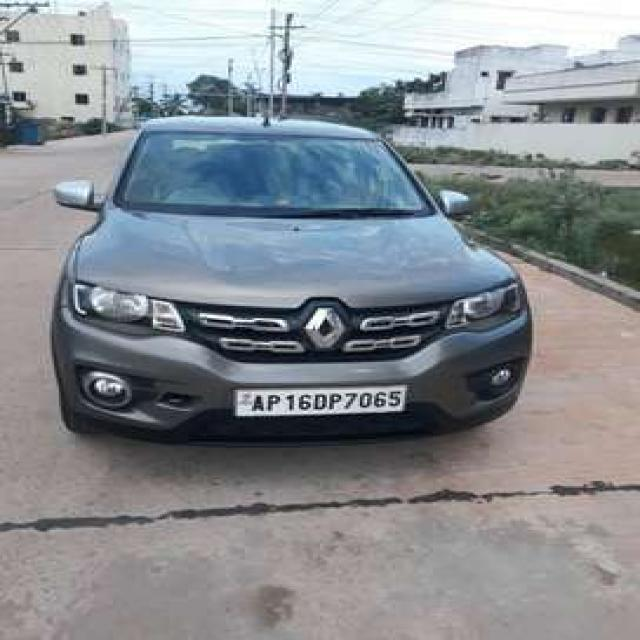license_plate: (221, 376, 418, 423)
